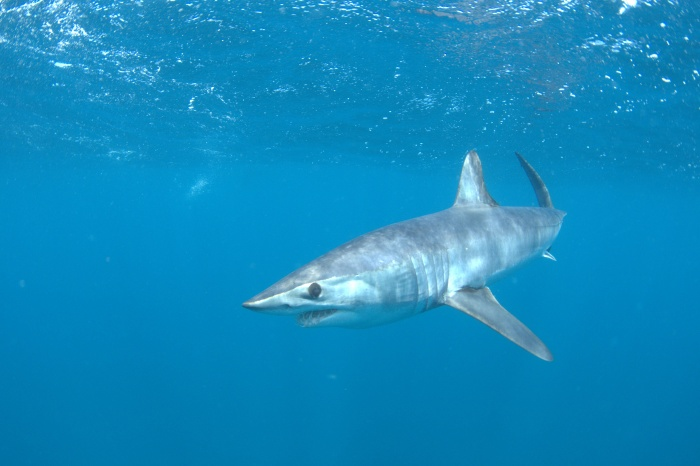Mako: (238, 145, 588, 373)
